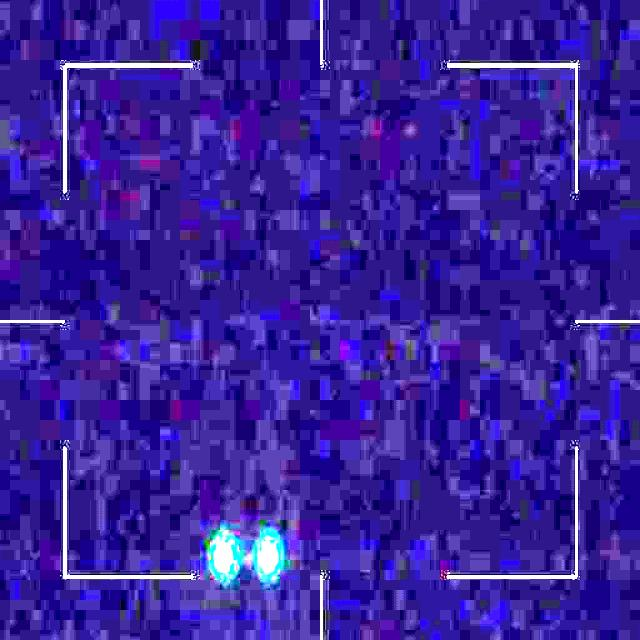bird: (212, 535, 279, 572)
